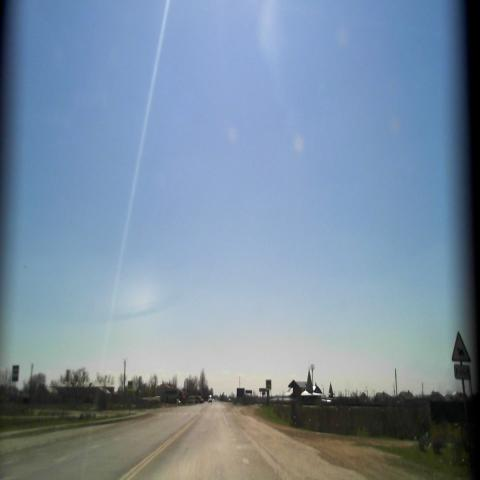1_26: (450, 331, 472, 362)
